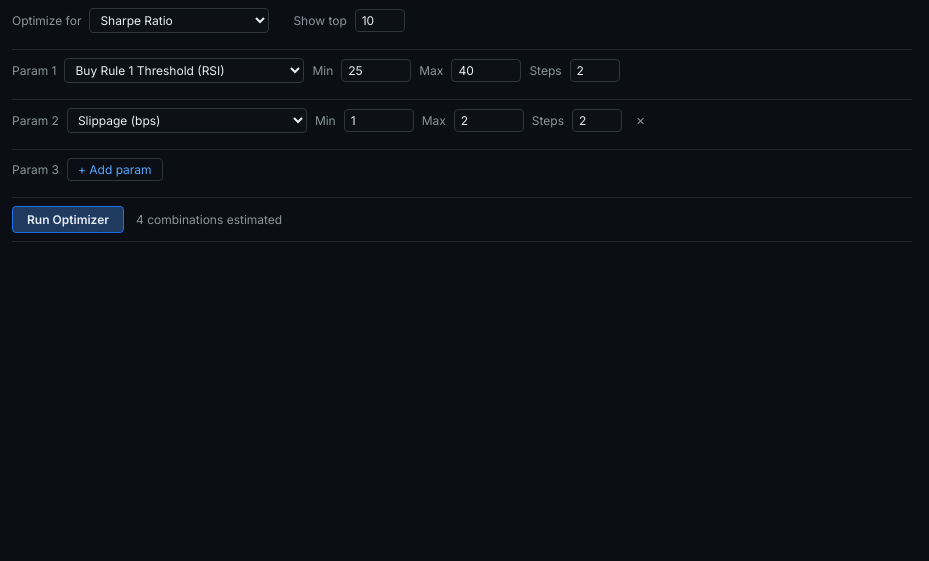
Test case: OptimizerPanel — 2-param Sharpe heatmap (F236) › renders heatmap container when 2-param sweep result is loaded
This screenshot has width=929, height=561.
Check: the button "✕" is shown, box [630,112,651,130]
Click the button "Run Optimizer" at (68, 220), box [12,206,124,233]
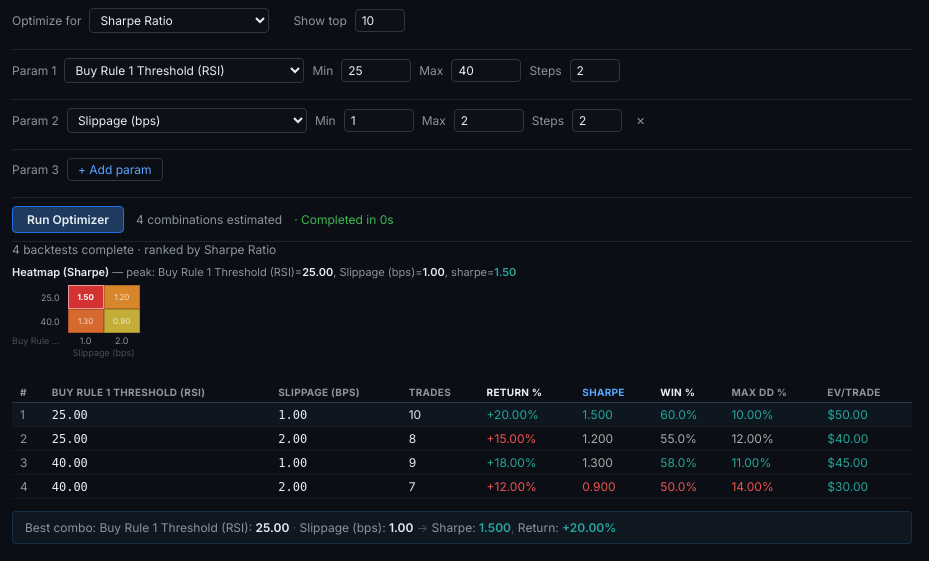
Check: the element with test id "sharpe-heatmap" is shown, box [68,285,140,333]
